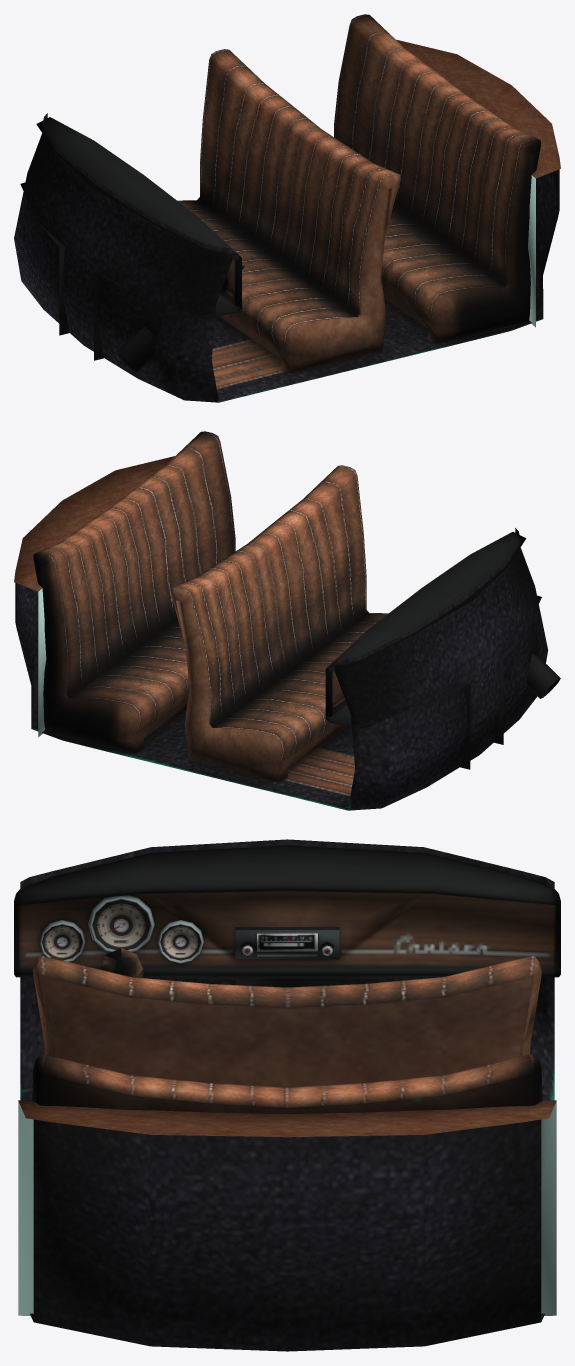
Rendered from interior2.fbx.
3 views of the same model, one above another, from view 1: azimuth 30°, elevation 25°; view 2: azimuth 150°, elevation 25°; view 3: azimuth 270°, elevation 25° (orthographic). The views are drawn at different scales.
Parts seen in each view (by area): view 1: interior; view 2: interior; view 3: interior.
Boxes of the visible parts, x1,y1,x2,y2 form: interior: (14, 14, 560, 402); interior: (14, 431, 560, 810); interior: (14, 839, 560, 1351).
Bounding box in the file's own units: 8808 × 3376 × 6417.
